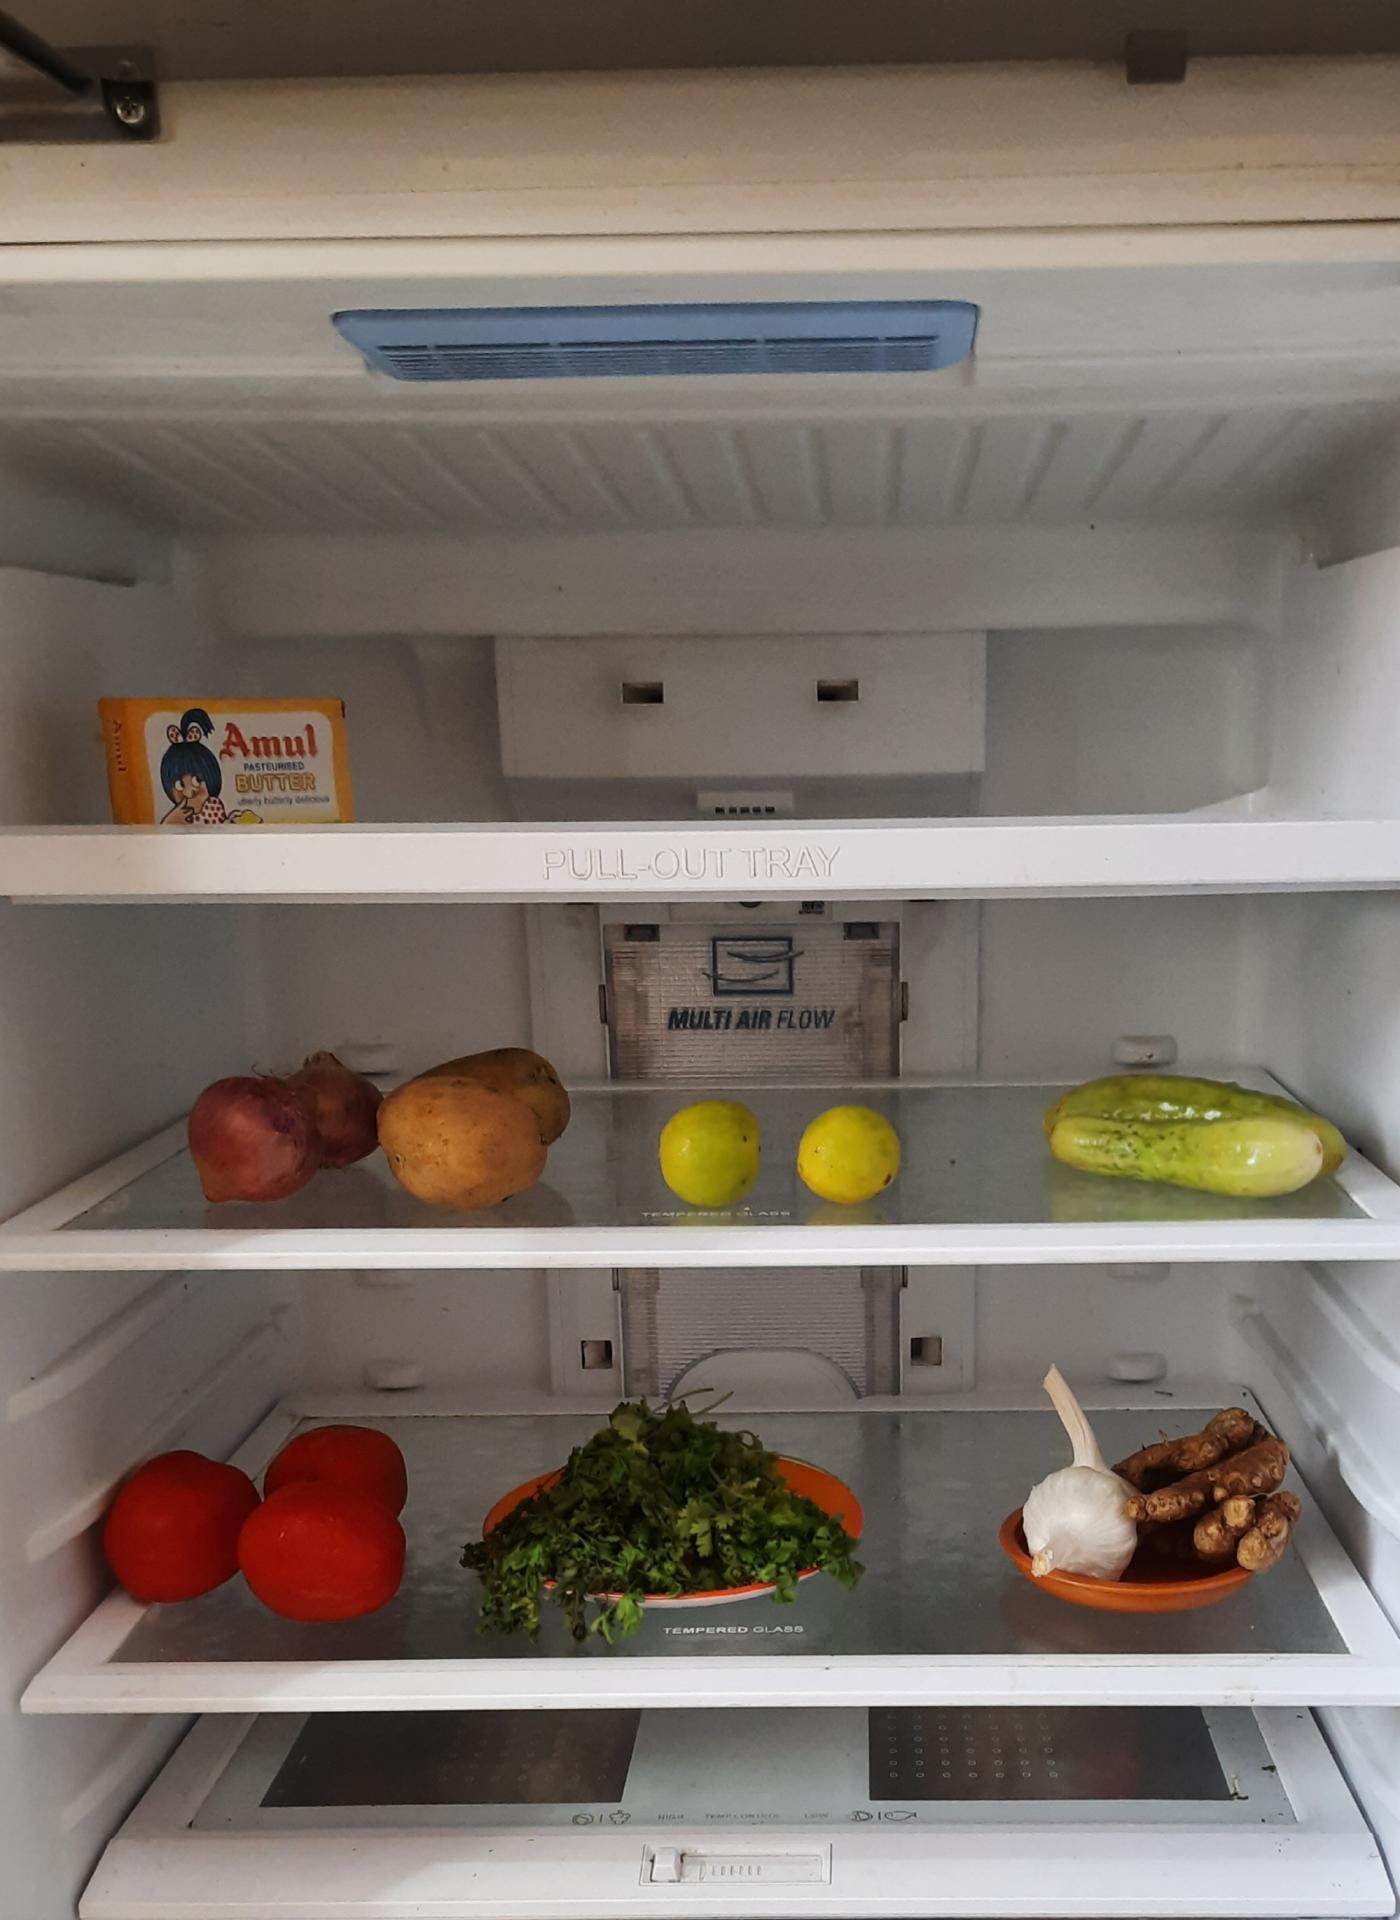butter: (97, 689, 358, 823)
coriander: (470, 1389, 848, 1613)
cucumber: (1036, 1072, 1351, 1199)
garlic: (1027, 1352, 1142, 1628)
ginger: (1118, 1406, 1305, 1574)
lemon: (655, 1093, 763, 1206), (798, 1096, 908, 1204)
potato: (364, 1030, 578, 1230), (180, 1033, 400, 1212)
tomato: (109, 1413, 413, 1623)
